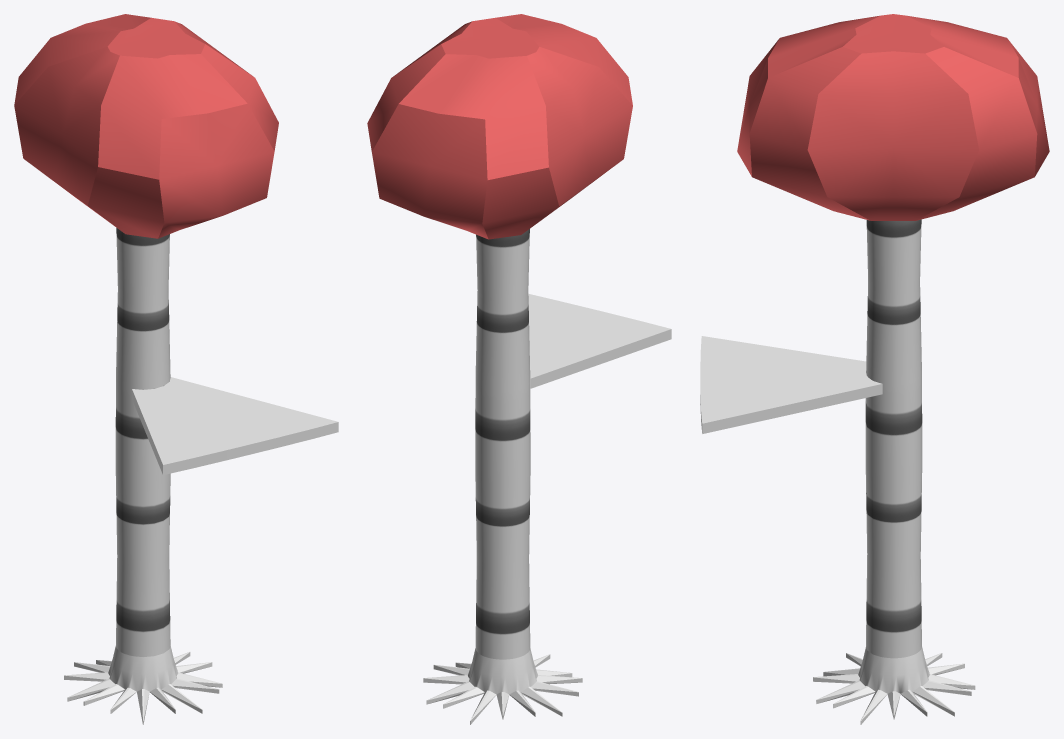
File: BirchTree.fbx
3 renders of one model, left to right at view 1: azimuth 30°, elevation 25°; view 2: azimuth 150°, elevation 25°; view 3: azimuth 270°, elevation 25°, orthographic. The views are drawn at different scales.
Parts seen in each view (by area): view 1: Leaves001, Trunk (×2), Platform; view 2: Leaves001, Trunk (×2), Platform; view 3: Leaves001, Trunk (×2), Platform.
Part boxes in pixels (x1=…): Leaves001: x1=14, y1=14, x2=278, y2=238; Trunk (×2): x1=64, y1=228, x2=222, y2=724; Platform: x1=132, y1=377, x2=338, y2=475; Leaves001: x1=367, y1=14, x2=632, y2=239; Trunk (×2): x1=423, y1=229, x2=582, y2=724; Platform: x1=528, y1=293, x2=671, y2=388; Leaves001: x1=737, y1=14, x2=1049, y2=220; Trunk (×2): x1=813, y1=219, x2=975, y2=724; Platform: x1=700, y1=336, x2=882, y2=433.
Bounding box in the file's own units: 269 × 877 × 419.
Materials: 3 (3 with a texture image).
